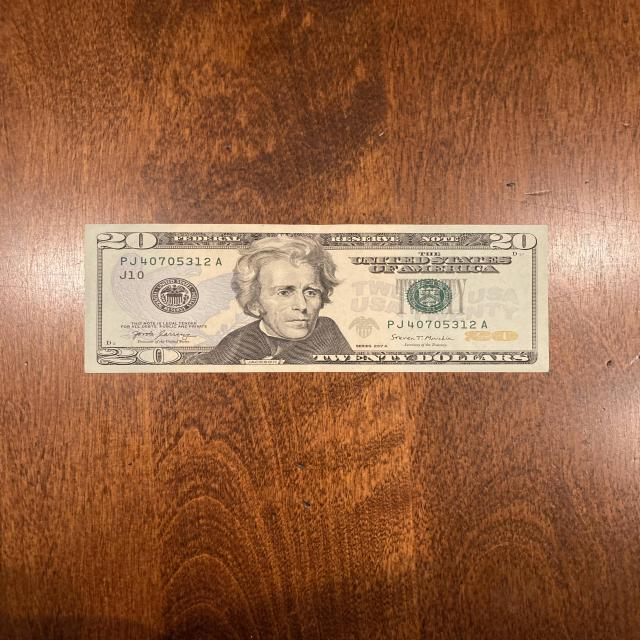twenty: (83, 224, 550, 373)
